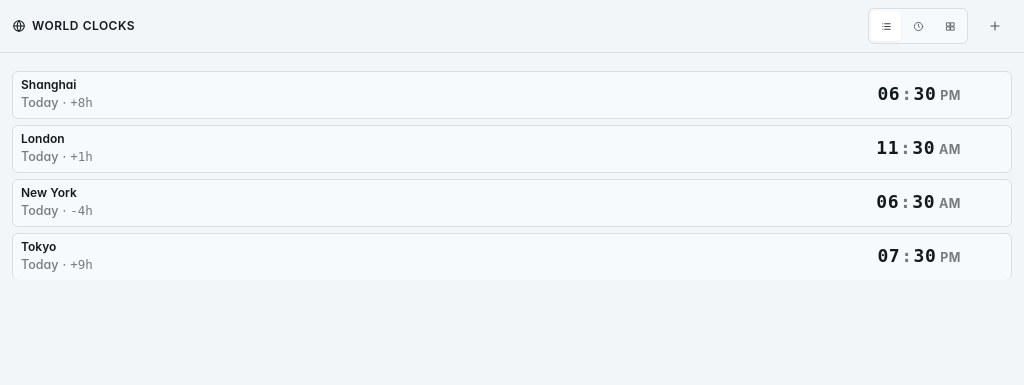
WorldClocks › AC-WORLDCLOCKS-2: view toggle list/analog/grid swaps rendered shape
Click the button named "Analog".
click(918, 26)  # box [903,11,933,41]
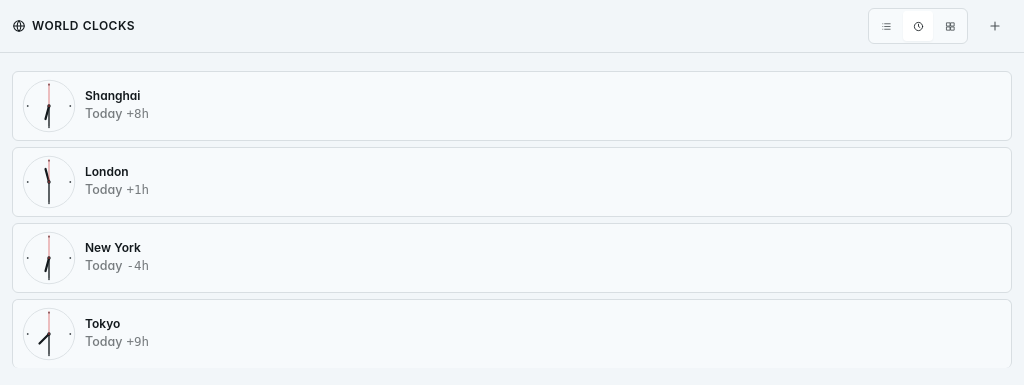
Expected: the element with class "tz-row-analog" showing "Shanghai Today +8h" is shown, [12,71,1012,141]
Click the button named "Grid".
click(950, 26)  # box [935,11,965,41]
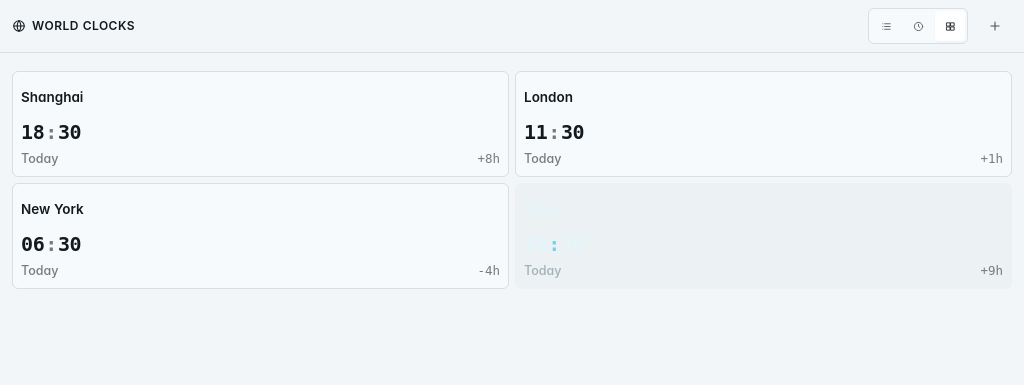
Expected: the element with class "tz-card" showing "Shanghai 18:30 Today +8h" is shown, [12,71,509,177]
Click the button named "List".
click(886, 26)  # box [871,11,901,41]
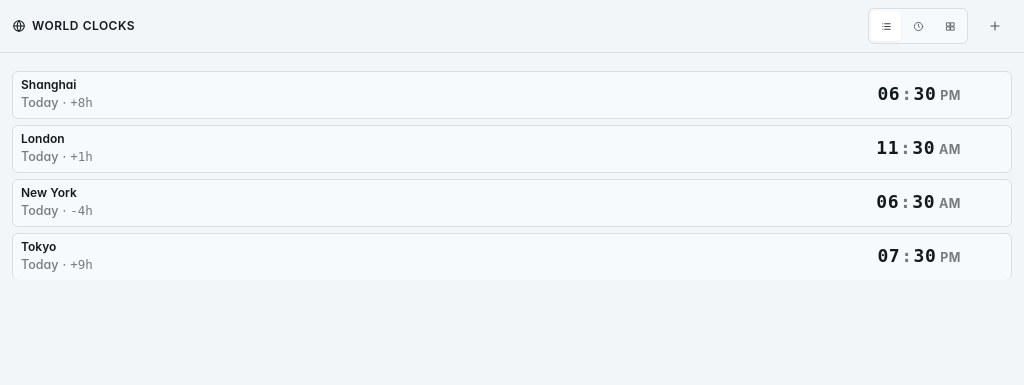
Expected: the element with class "tz-row-list" that starts with "Shanghai" is shown, [12,71,1012,119]
